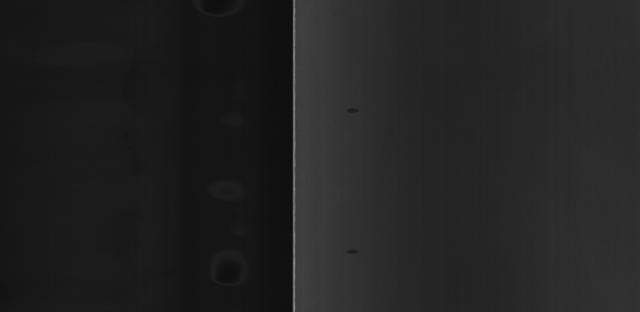oil_spot: (328, 99, 362, 116), (344, 240, 365, 262)
